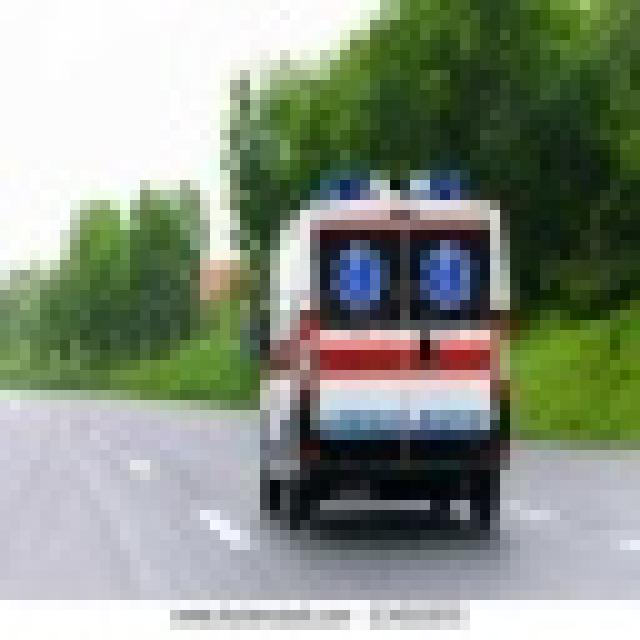Ambulance: (250, 160, 510, 530)
